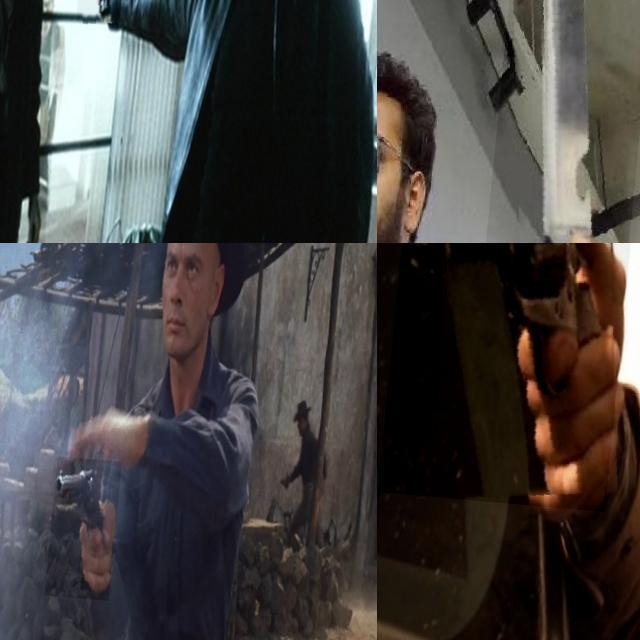-: (483, 0, 640, 243)
gun-knife-thesis - v11 Yolov5 augmented: (385, 243, 638, 506), (55, 452, 130, 596), (82, 0, 131, 41)
